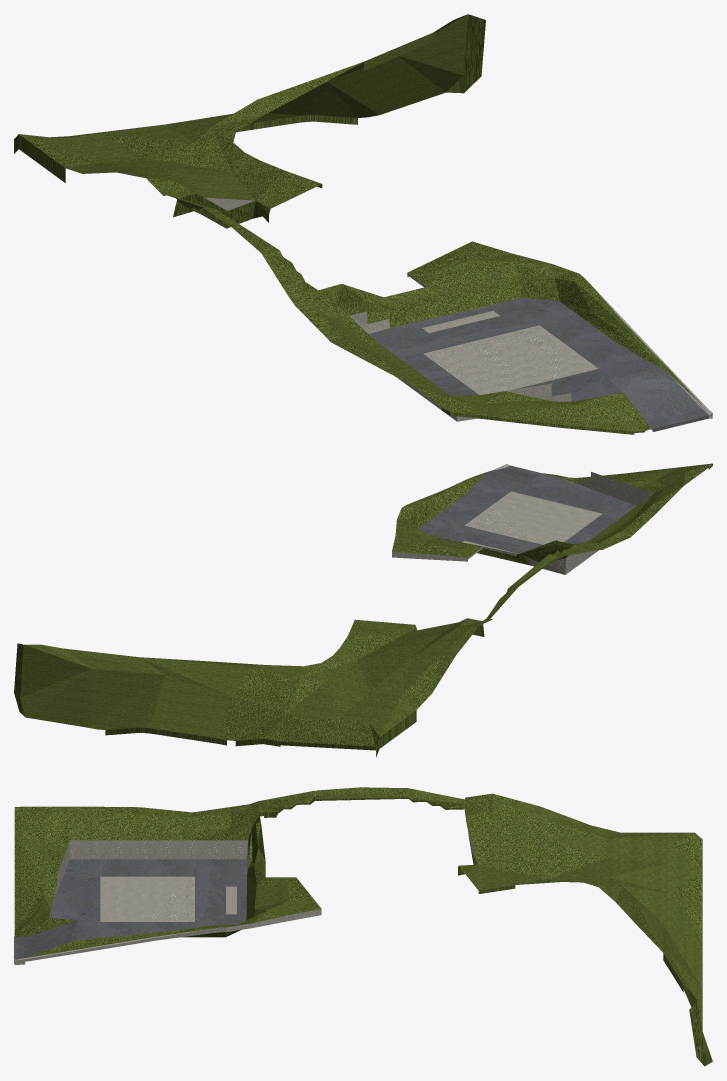
Rendered from lod_boigagr_sfw01.obj.
3 views of the same model, one above another, from view 1: azimuth 30°, elevation 25°; view 2: azimuth 150°, elevation 25°; view 3: azimuth 270°, elevation 25° (orthographic). The views are drawn at different scales.
Parts seen in each view (by area): view 1: lod_boigagr_sfw01; view 2: lod_boigagr_sfw01; view 3: lod_boigagr_sfw01.
Boxes of the visible parts, bbox=[...] form: lod_boigagr_sfw01: bbox=[14, 14, 712, 434]; lod_boigagr_sfw01: bbox=[14, 463, 712, 757]; lod_boigagr_sfw01: bbox=[14, 787, 712, 1066].
Bounding box in the file's own units: 122 × 34.08 × 198.
3 materials, 3 textured.
